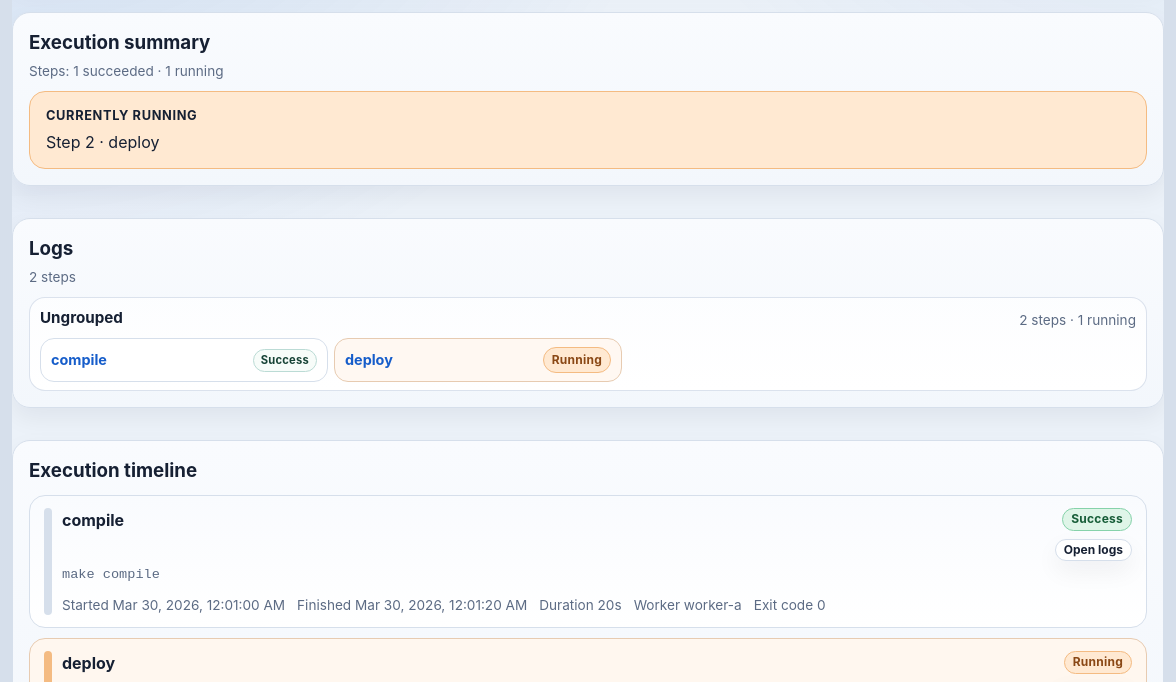
it: BuildDetailPage › resets the open step when navigating to a different build
The image size is (1176, 682).
(page scrolled)
Expected: the heading "Logs" is shown, [29,234,76,263]
Click the link with aria-label "Open logs for deploy". click: (369, 360)
box: [334,338,622,382]
(page scrolled)
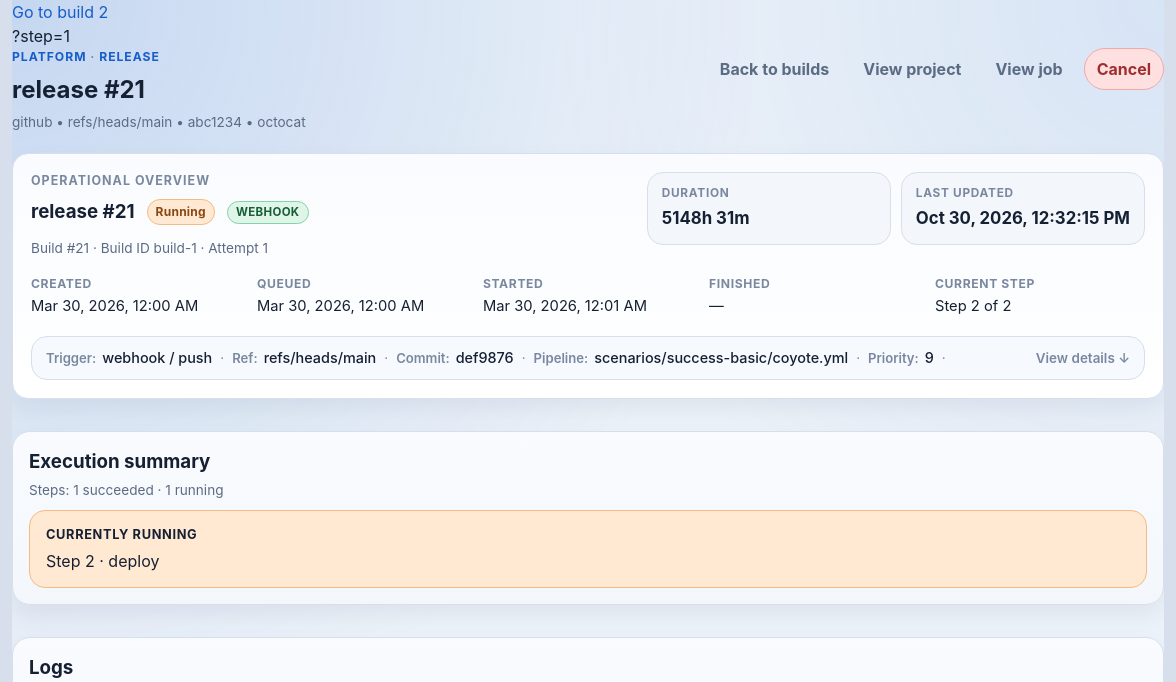
Click the link "Go to build 2". click: (60, 12)
box: [12,2,108,22]
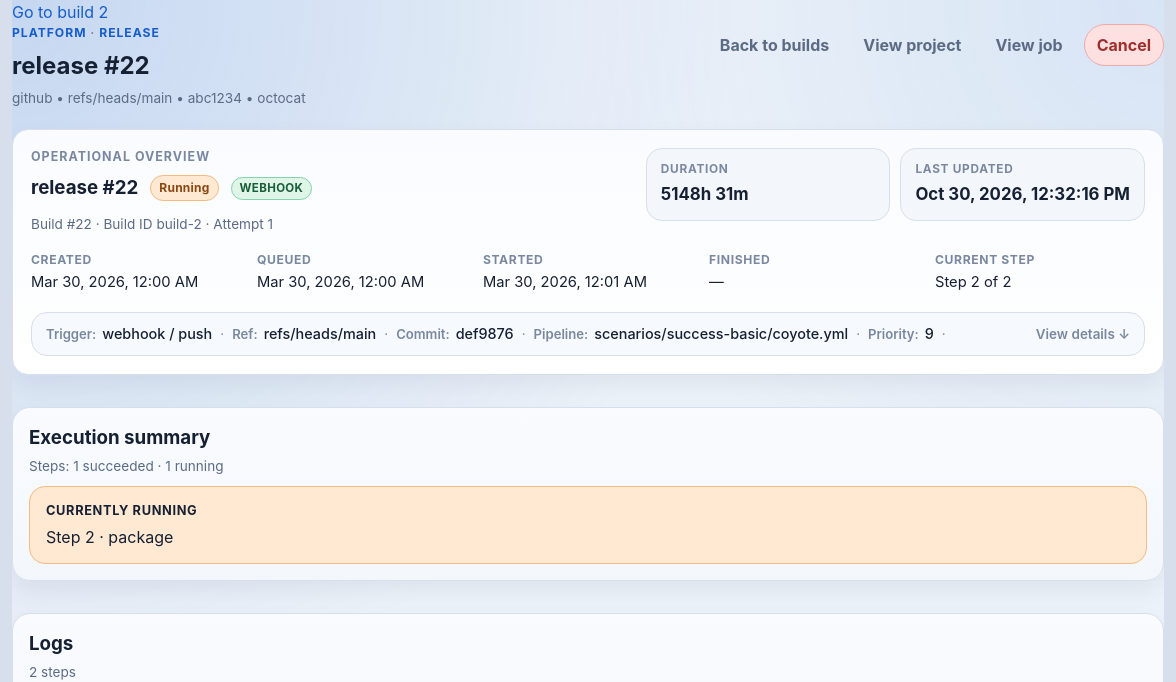
Result: the heading "release #22" in the row of "Back to builds" is shown at [12,51,150,80]
